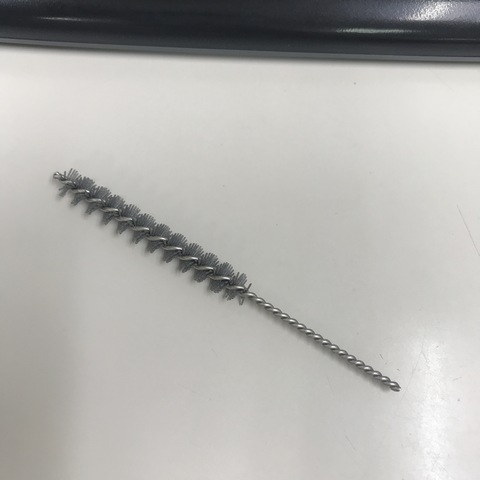Twist Brush-A: (51, 162, 403, 397)
